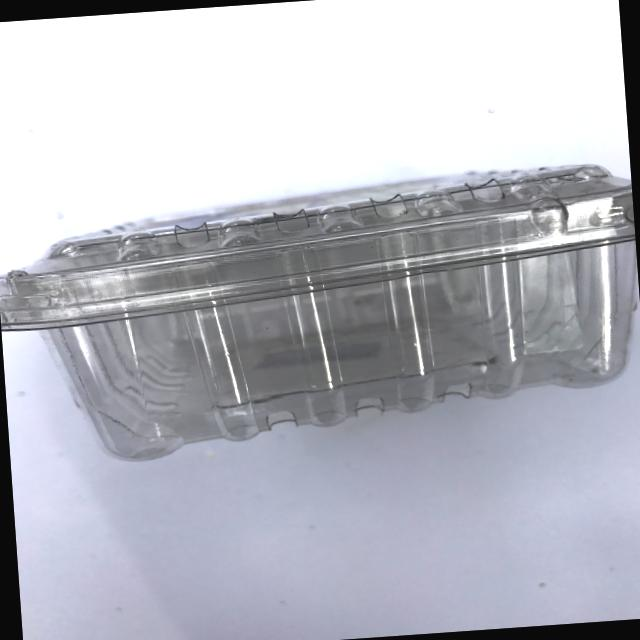Plastic: (0, 79, 640, 503)
